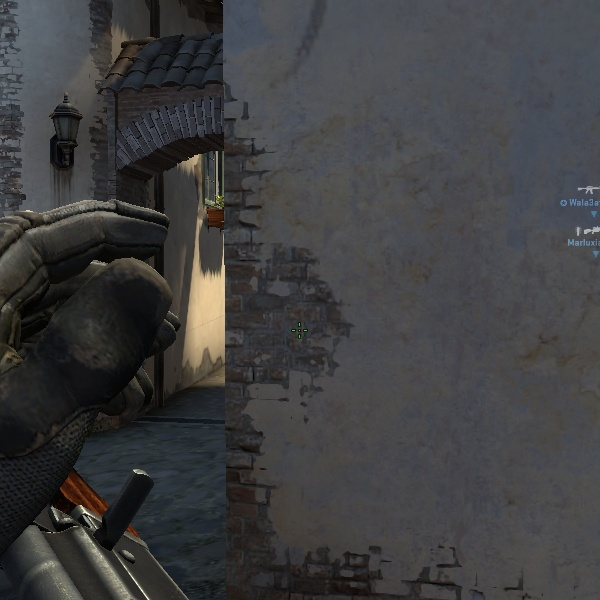ct_body: (0, 78, 225, 600)
